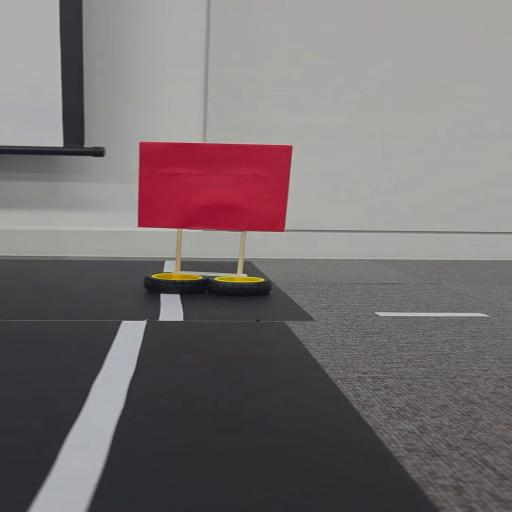Sign_A: (125, 134, 295, 300)
